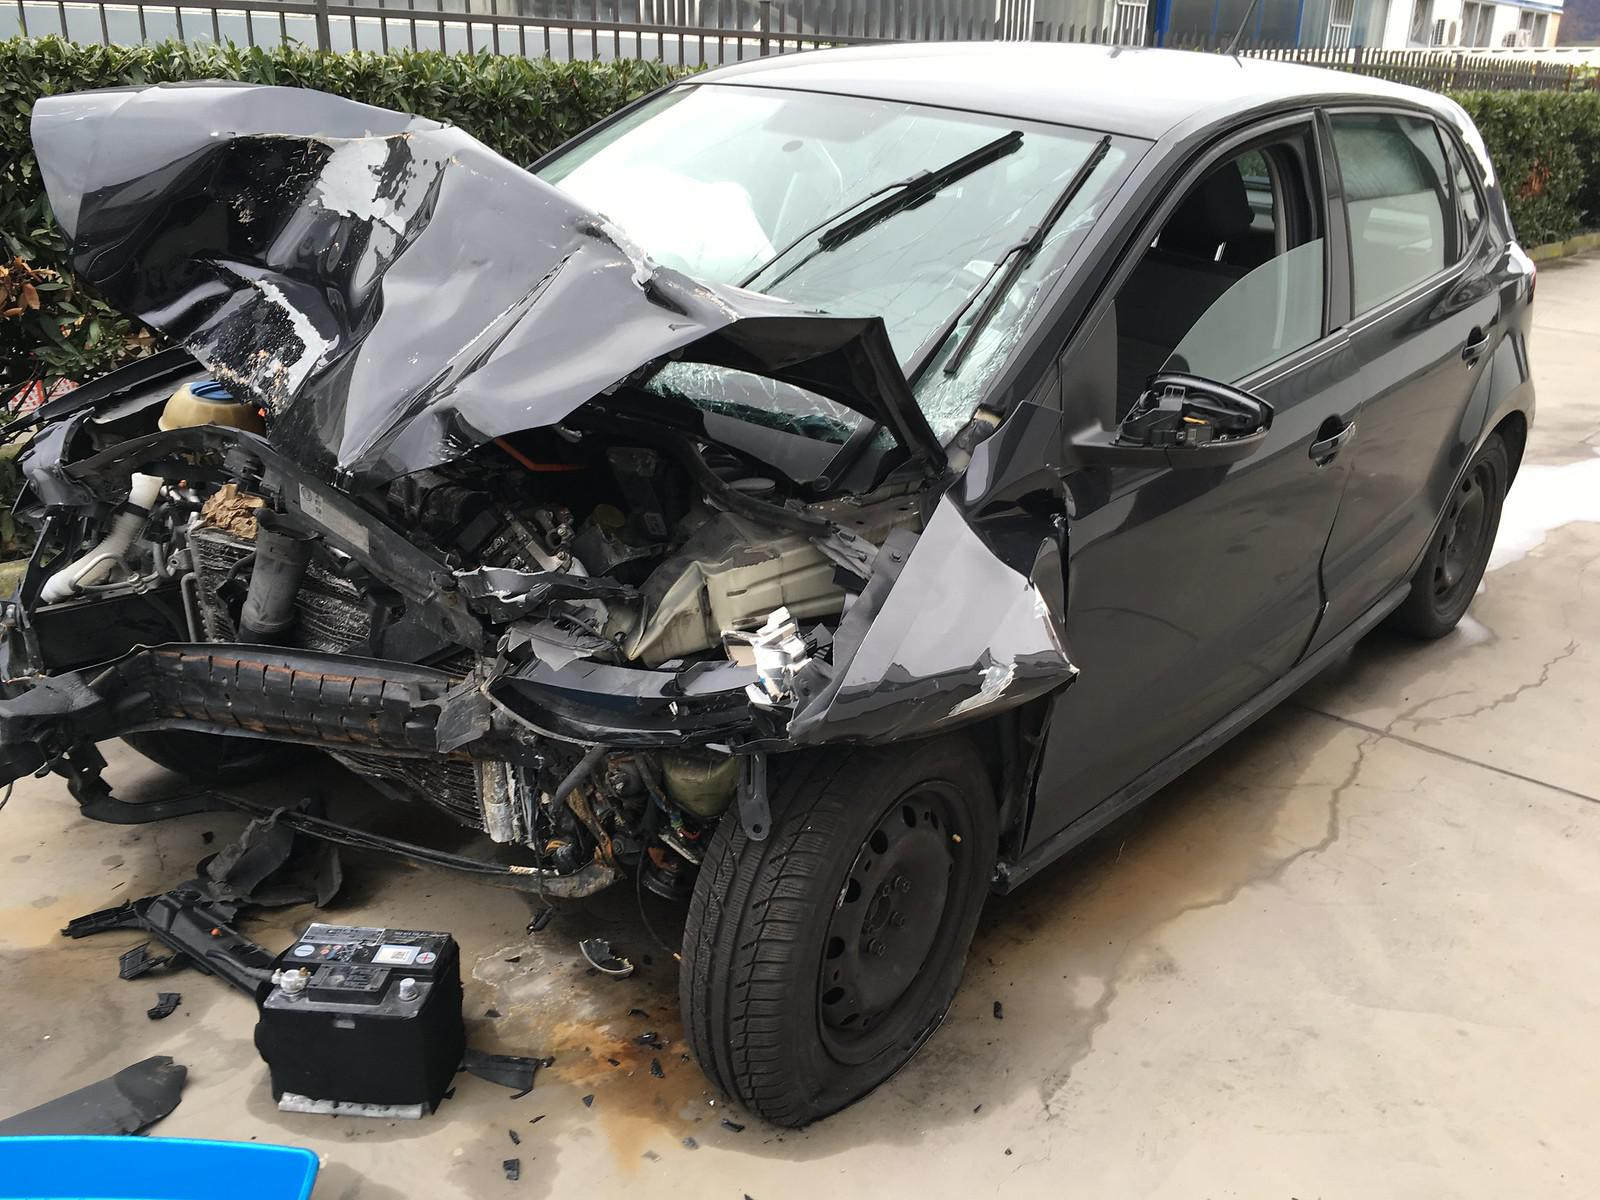Front-Windscreen-Damage: (842, 166, 1129, 422)
bonnet-dent: (115, 87, 797, 456)
fender-dent: (765, 529, 1057, 783)
